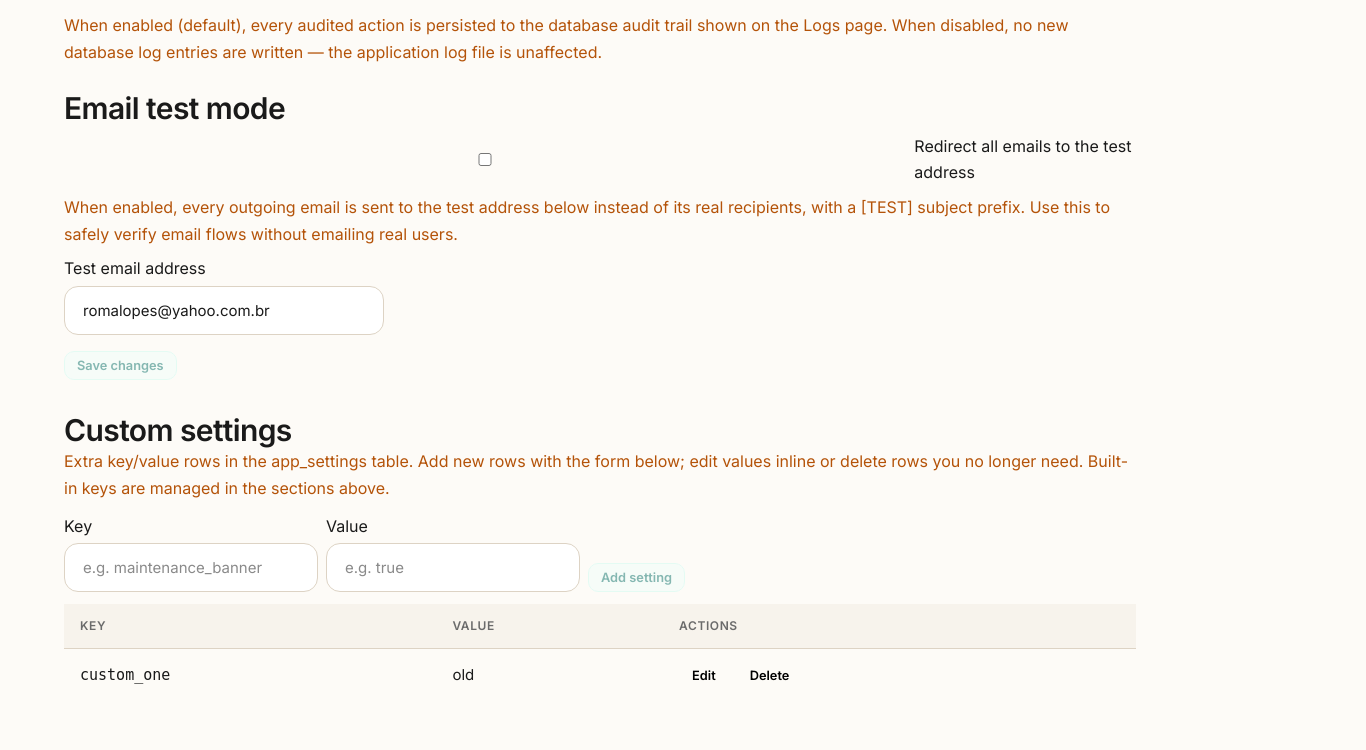
Test: ConfigurationSettings page › lists custom settings and edits a value inline
This screenshot has width=1366, height=750.
(page scrolled)
Expected: the text "custom_one" is shown, [80,666,170,684]
Click the button "Edit" at (704, 675), box [679,661,729,690]
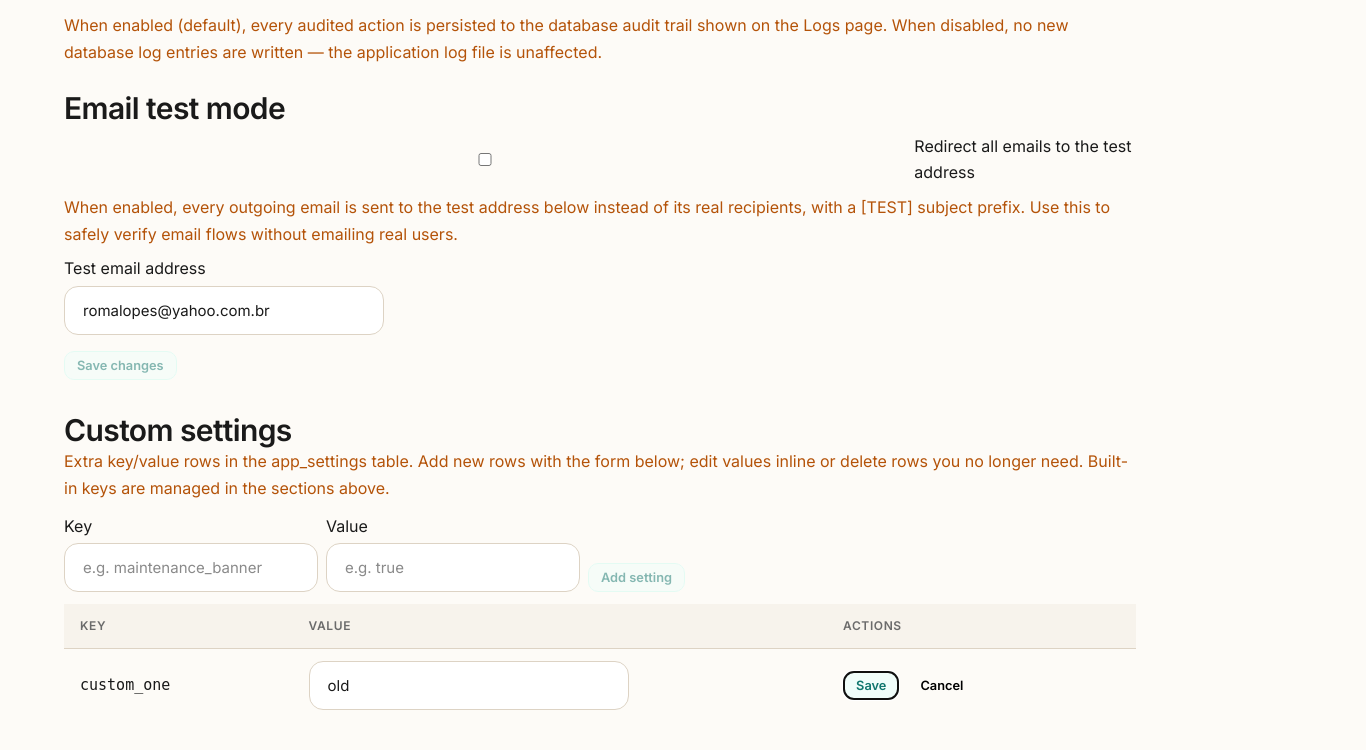
Replace the text in the field named "value for custom_one" with "new" at (469, 685), box [309,661,629,710]
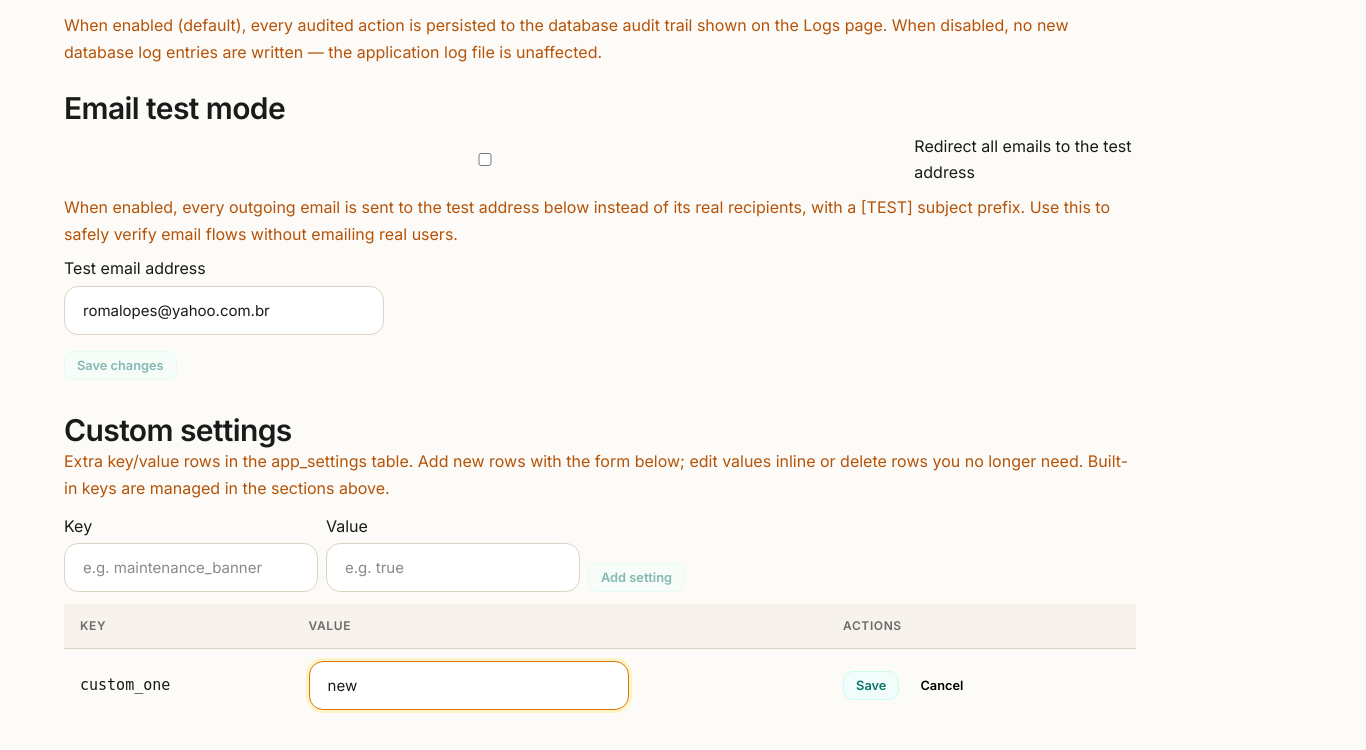
Click the button "Save" at (871, 685), box [843,671,899,700]
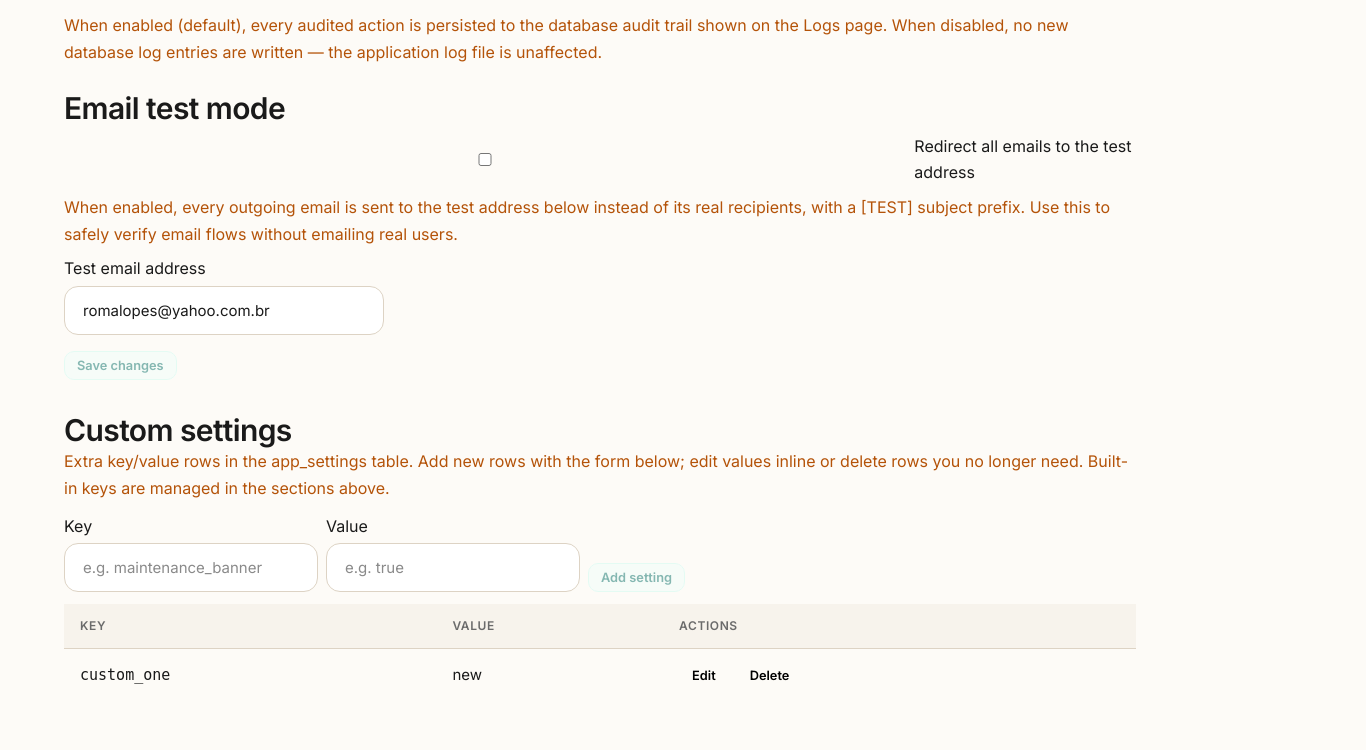
Result: the text "new" is shown at [436,648,663,702]
